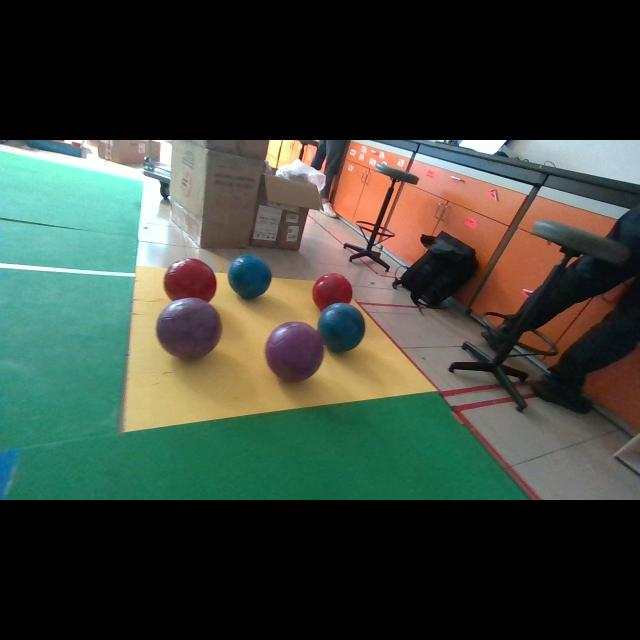B: (318, 302, 365, 352), (229, 254, 271, 298)
P: (158, 298, 222, 358), (265, 321, 324, 382)
R: (164, 259, 216, 301), (312, 274, 352, 311)
